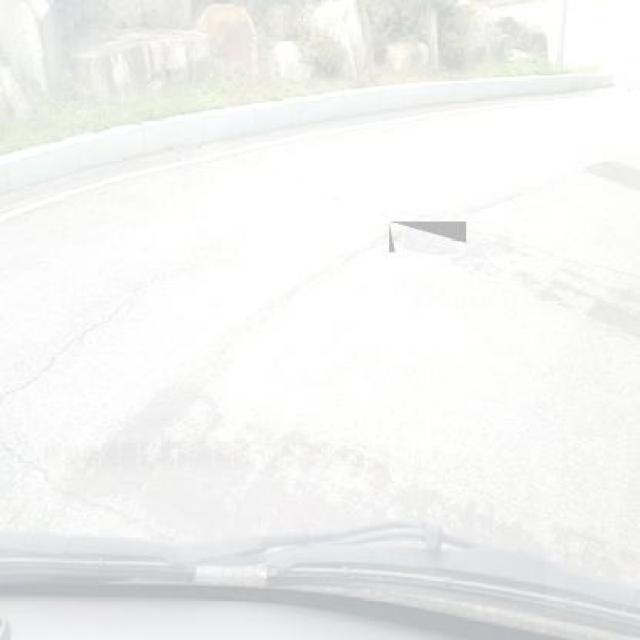Manhole: (390, 222, 467, 253)
